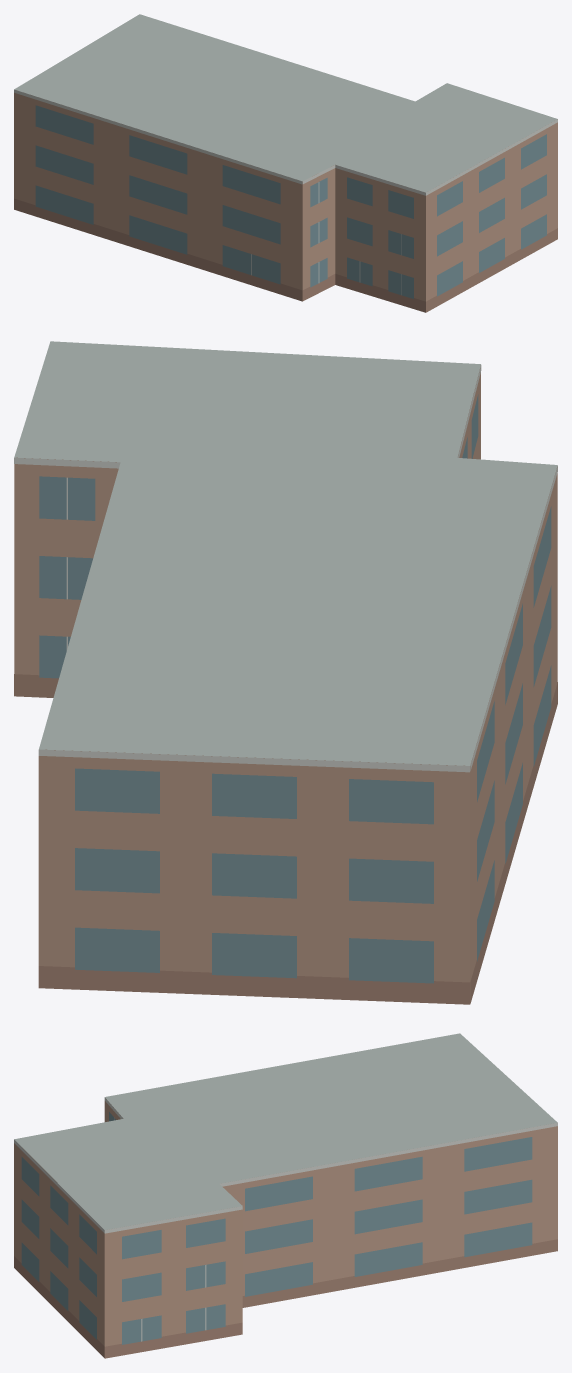
The model's file is survey-upis-32693239.glb.
3 views of the same model, one above another, from view 1: azimuth 30°, elevation 25°; view 2: azimuth 150°, elevation 25°; view 3: azimuth 270°, elevation 25° (orthographic). The views are drawn at different scales.
Visible parts, largest first — view 1: survey-upis-32693239.tmp; view 2: survey-upis-32693239.tmp; view 3: survey-upis-32693239.tmp.
Boxes of the visible parts, x1,y1,x2,y2 form: survey-upis-32693239.tmp: (14, 14, 557, 312); survey-upis-32693239.tmp: (14, 341, 557, 1004); survey-upis-32693239.tmp: (14, 1033, 557, 1358).
Size of the model in its own units: 30.1 by 9.15 by 35.13.
